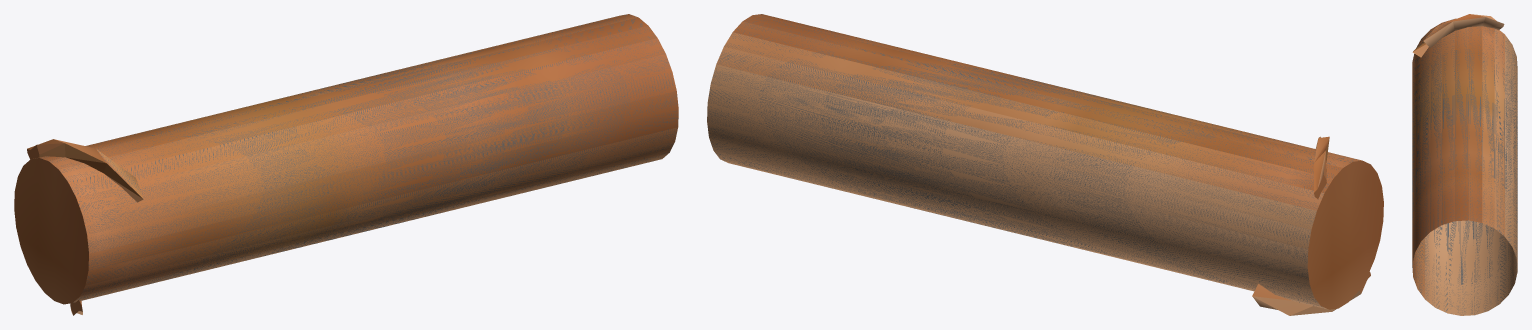
Rendered from original-1071.obj.
3 views of the same model, side by side, from view 1: azimuth 30°, elevation 25°; view 2: azimuth 150°, elevation 25°; view 3: azimuth 270°, elevation 25° (orthographic). The views are drawn at different scales.
Visible parts, largest first — view 1: mesh141/mesh141-geometry#mesh141-geometry; view 2: mesh141/mesh141-geometry#mesh141-geometry; view 3: mesh141/mesh141-geometry#mesh141-geometry.
Part boxes in pixels (left/top/right/bottom): mesh141/mesh141-geometry#mesh141-geometry: left=14, top=14, right=678, bottom=315; mesh141/mesh141-geometry#mesh141-geometry: left=707, top=14, right=1383, bottom=315; mesh141/mesh141-geometry#mesh141-geometry: left=1412, top=14, right=1517, bottom=315.
Bounding box in the file's own units: 0.0356 × 0.00941 × 0.00783.
